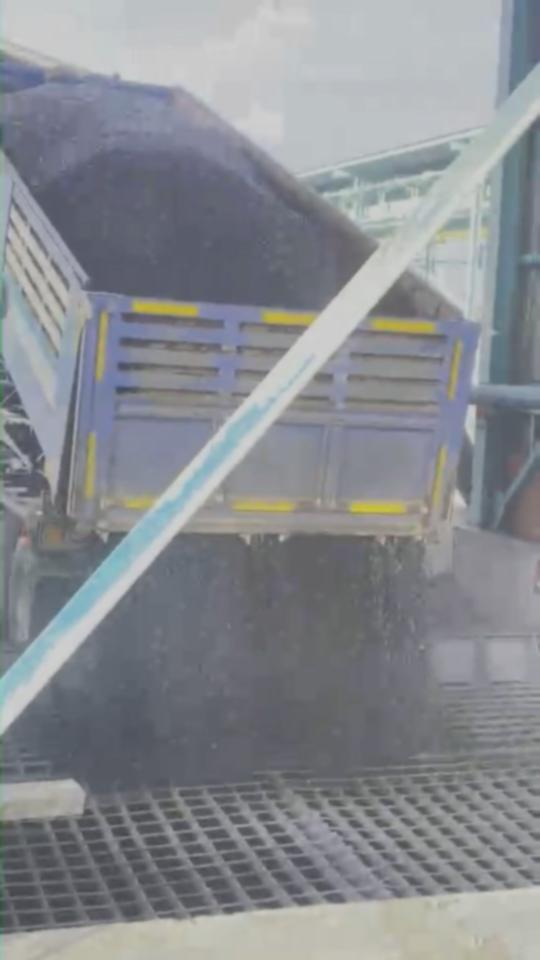gravel: (59, 536, 429, 787), (4, 83, 372, 308), (381, 276, 447, 316)
